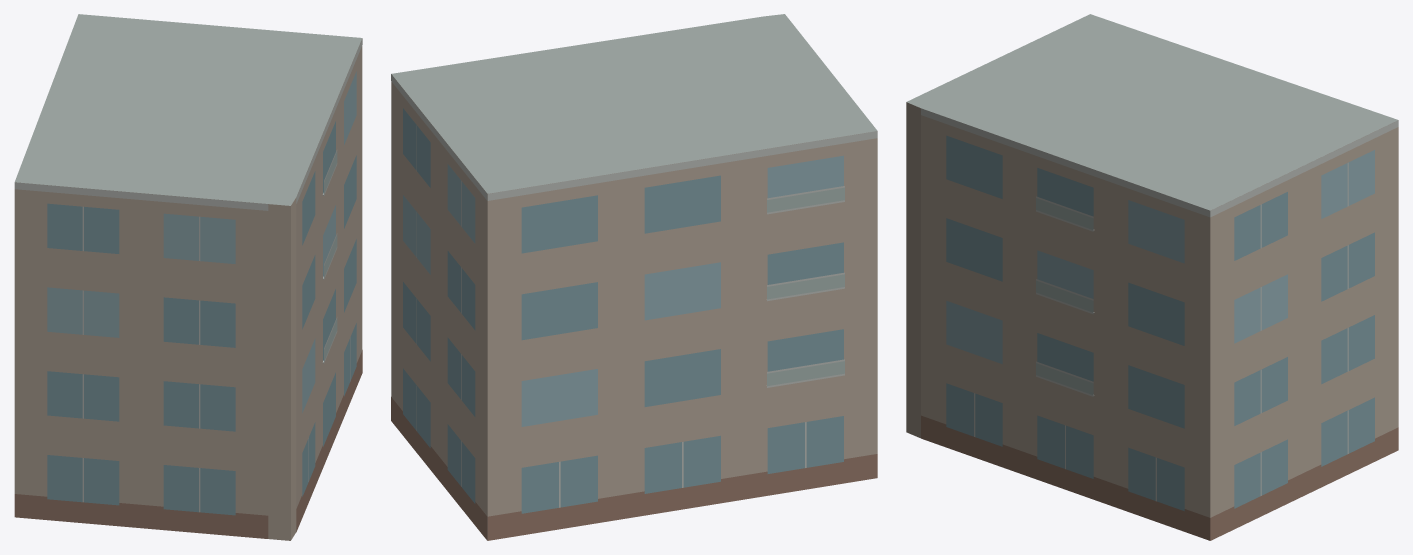
File: survey-upis-32569147.glb
The picture shows the model from 3 angles, left to right: view 1: azimuth 30°, elevation 25°; view 2: azimuth 150°, elevation 25°; view 3: azimuth 270°, elevation 25°; orthographic projection. The views are drawn at different scales.
Parts seen in each view (by area): view 1: survey-upis-32569147.tmp; view 2: survey-upis-32569147.tmp; view 3: survey-upis-32569147.tmp.
Boxes of the visible parts, x1,y1,x2,y2 form: survey-upis-32569147.tmp: [14, 14, 362, 540]; survey-upis-32569147.tmp: [391, 14, 877, 540]; survey-upis-32569147.tmp: [906, 14, 1398, 540].
Bounding box in the file's own units: 15.08 × 11.8 × 15.95.
